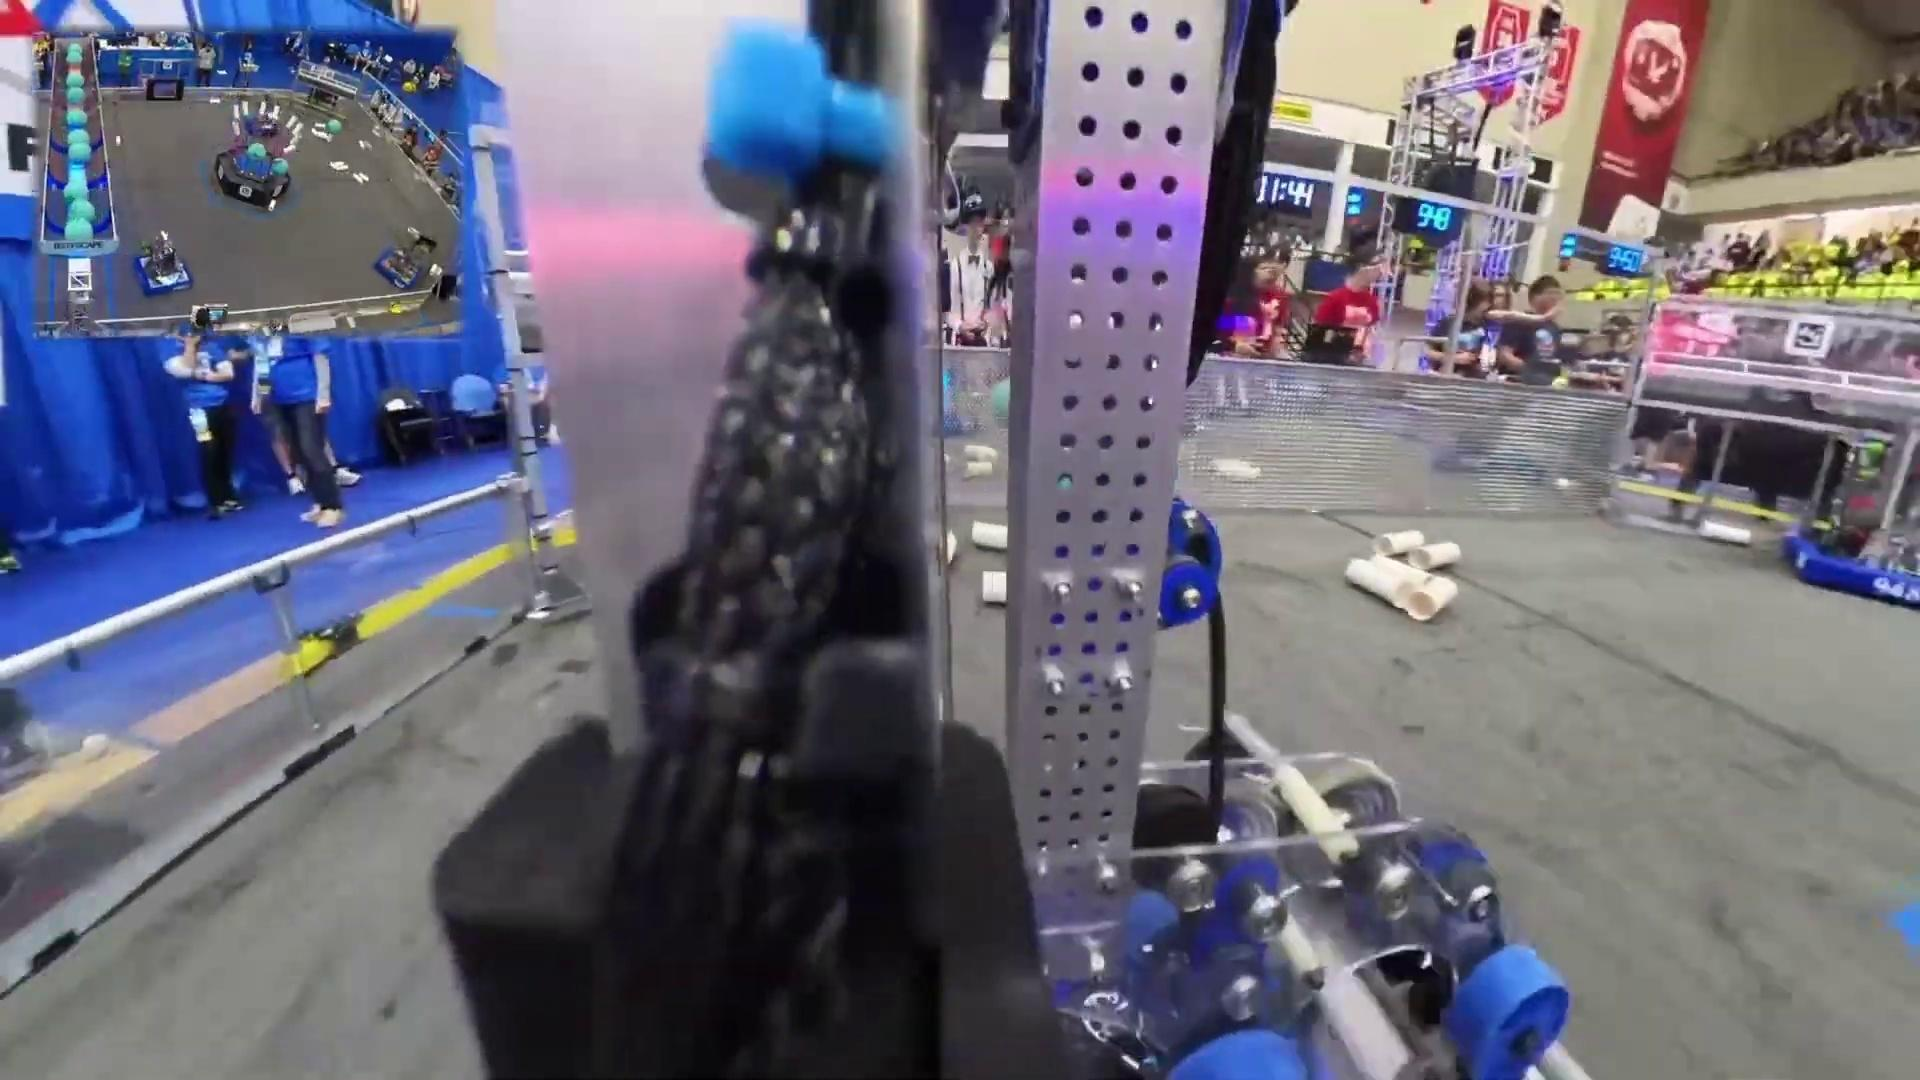robot: (1787, 433, 1920, 611), (371, 225, 431, 293), (135, 225, 191, 295)
